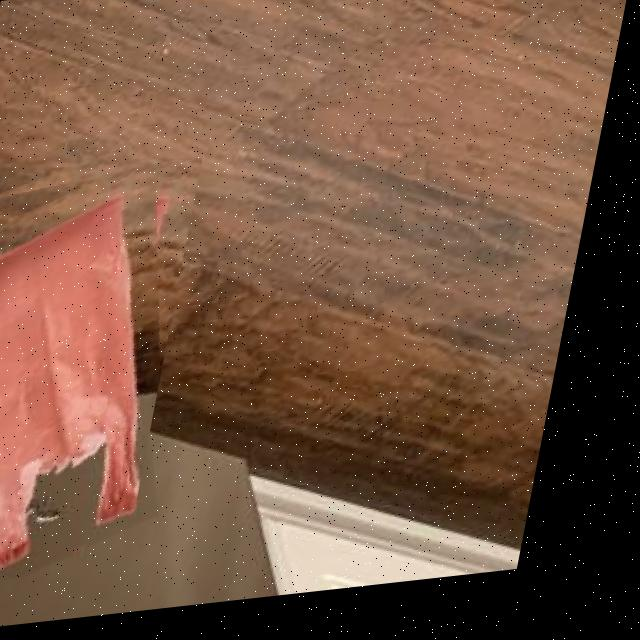litter: (0, 154, 210, 592)
